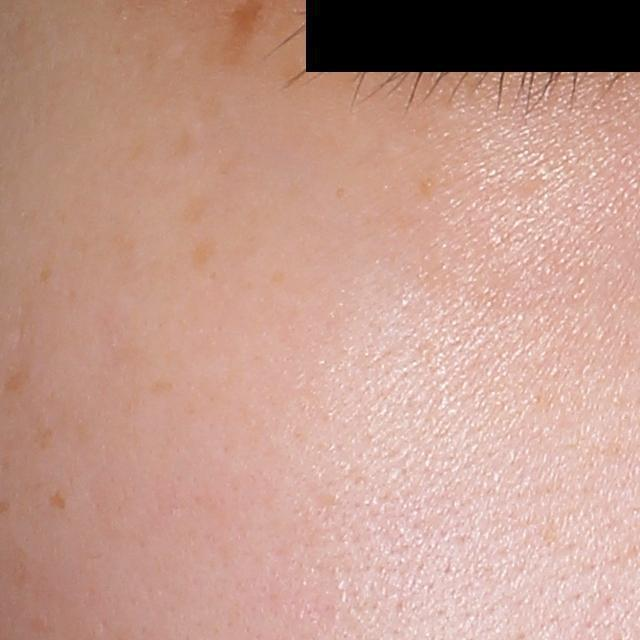melasma: (186, 233, 218, 276), (176, 190, 212, 228), (172, 126, 203, 162), (31, 420, 58, 452), (416, 169, 442, 196), (145, 376, 176, 397), (46, 490, 69, 513), (36, 263, 54, 289)
